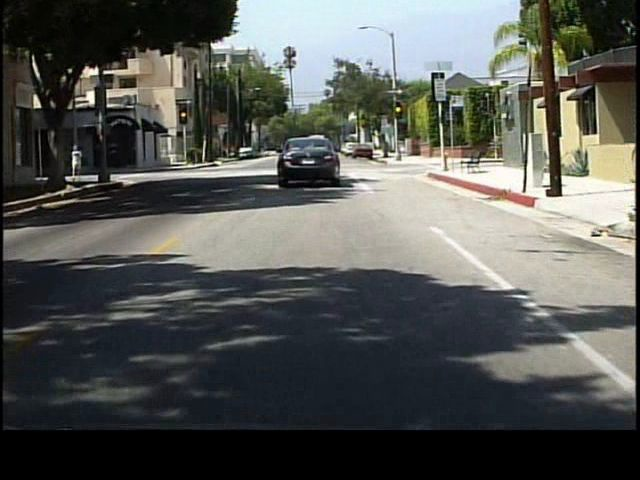person: (69, 144, 86, 187)
